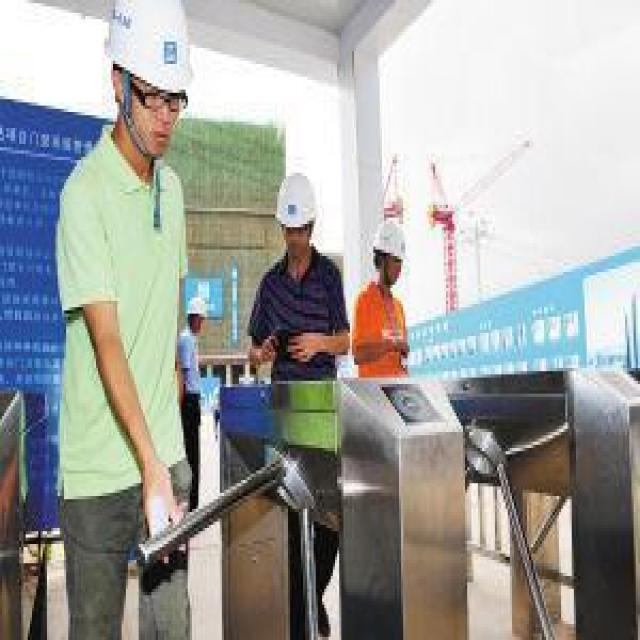hat: (107, 3, 201, 172), (275, 163, 320, 266), (374, 208, 408, 288), (186, 291, 208, 339)
